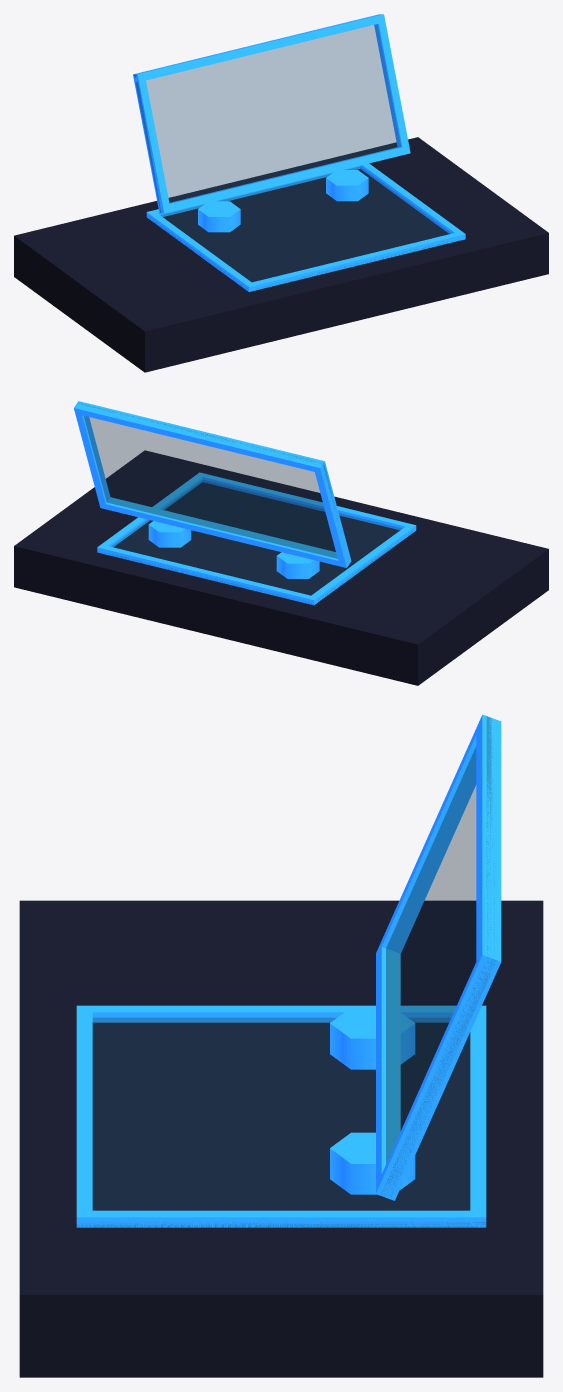
The model's file is holo_reader.lod1.glb.
The picture shows the model from 3 angles, top to bottom: view 1: azimuth 30°, elevation 25°; view 2: azimuth 150°, elevation 25°; view 3: azimuth 270°, elevation 25°; orthographic projection. The views are drawn at different scales.
Parts seen in each view (by area): view 1: item.holo_reader.body; view 2: item.holo_reader.body; view 3: item.holo_reader.body.
Part boxes in pixels (x1,y1,x2,y2): item.holo_reader.body: (14,14,548,372); item.holo_reader.body: (14,401,548,685); item.holo_reader.body: (19,714,543,1377).
Bounding box in the file's own units: 0.5125 × 0.2269 × 0.2875.
